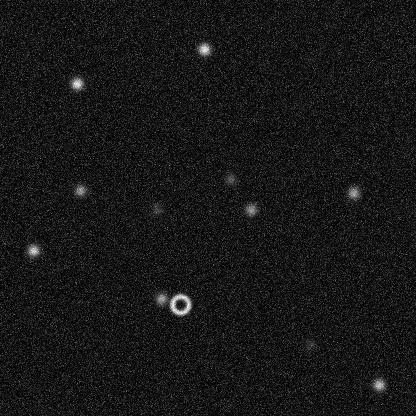Ring: (168, 292, 192, 316)
Spot: (243, 201, 259, 217), (345, 184, 361, 200), (153, 290, 169, 306), (196, 41, 212, 57), (222, 170, 238, 186), (148, 201, 164, 217), (301, 337, 317, 353), (68, 75, 84, 91), (72, 182, 88, 198), (370, 376, 386, 392), (25, 242, 41, 258)
